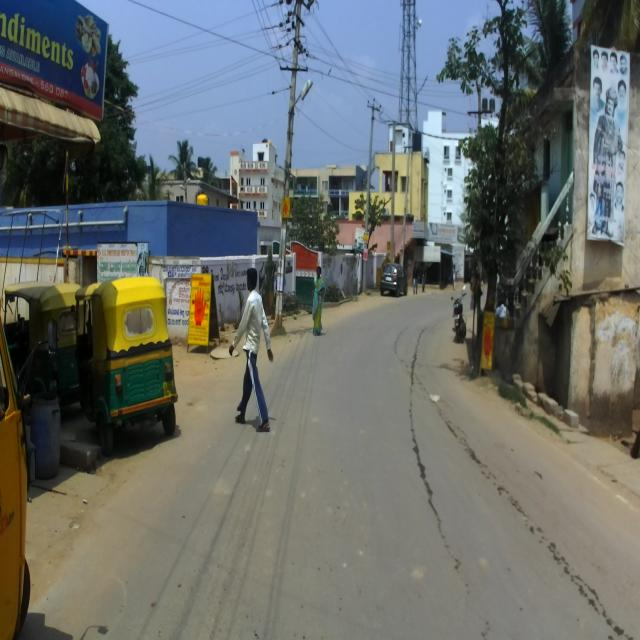auto ahead at: (76, 277, 178, 435)
electric pole ahead at: (259, 0, 319, 365)
person ahead at: (228, 261, 274, 440), (307, 262, 329, 336)
